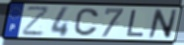4: (50, 5, 70, 38)
7: (100, 7, 125, 38)
C: (73, 7, 101, 37)
L: (125, 9, 146, 38)
N: (146, 8, 179, 40)
Z: (21, 6, 52, 37)
